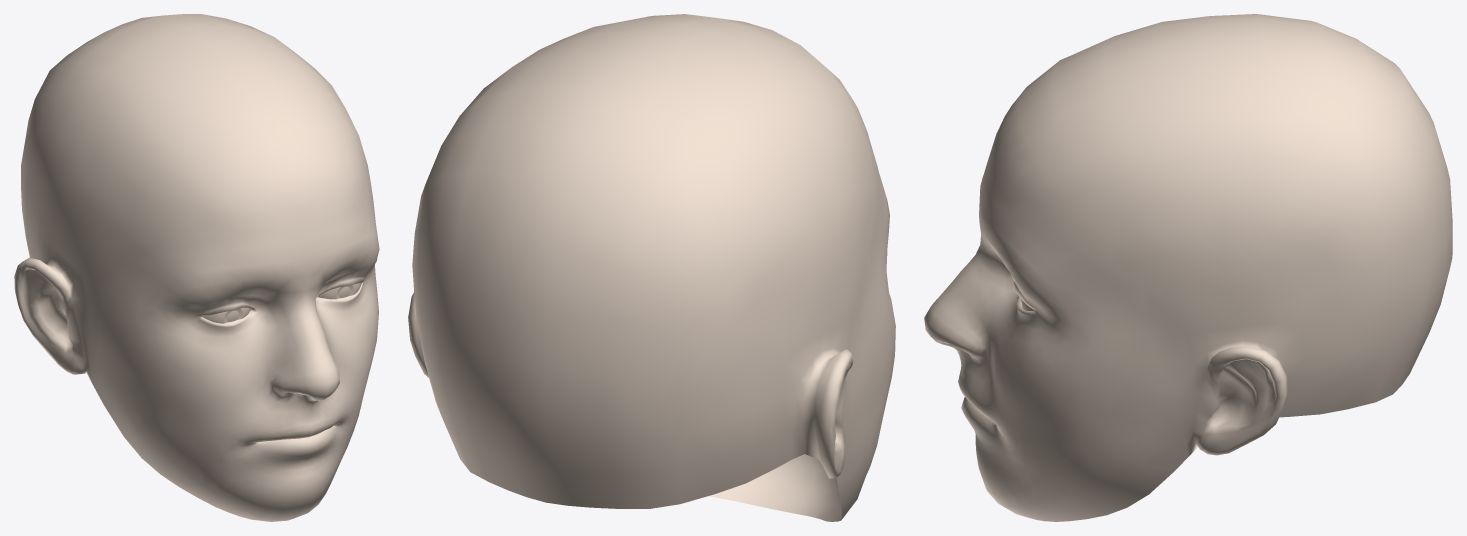
File: facecap_clean.glb
3 renders of one model, left to right at view 1: azimuth 30°, elevation 25°; view 2: azimuth 150°, elevation 25°; view 3: azimuth 270°, elevation 25°, orthographic. The views are drawn at different scales.
Visible parts, largest first — view 1: head, eyeLeft; view 2: head; view 3: head.
Part boxes in pixels (bbox=[...]): head: bbox=[14, 14, 379, 521]; eyeLeft: bbox=[201, 307, 250, 323]; head: bbox=[408, 14, 895, 521]; head: bbox=[924, 14, 1452, 521].
Bounding box in the file's own units: 1.9 × 2.34 × 2.36.
